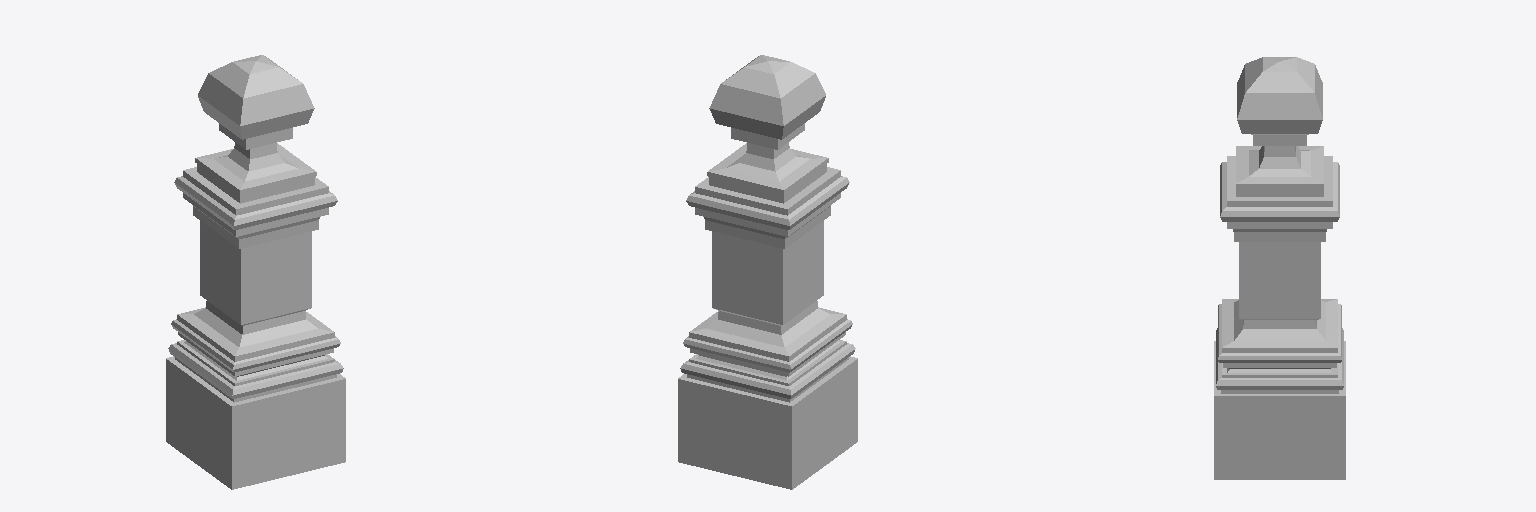
The model's file is artObj.obj.
3 renders of one model, left to right at view 1: azimuth 30°, elevation 25°; view 2: azimuth 150°, elevation 25°; view 3: azimuth 270°, elevation 25°, orthographic.
Visible parts, largest first — view 1: Rectangle001; view 2: Rectangle001; view 3: Rectangle001.
Part boxes in pixels (bbox=[...]): Rectangle001: bbox=[166, 55, 345, 489]; Rectangle001: bbox=[678, 55, 857, 489]; Rectangle001: bbox=[1214, 57, 1345, 479].
Size of the model in its own units: 6.95 by 22.72 by 6.95.